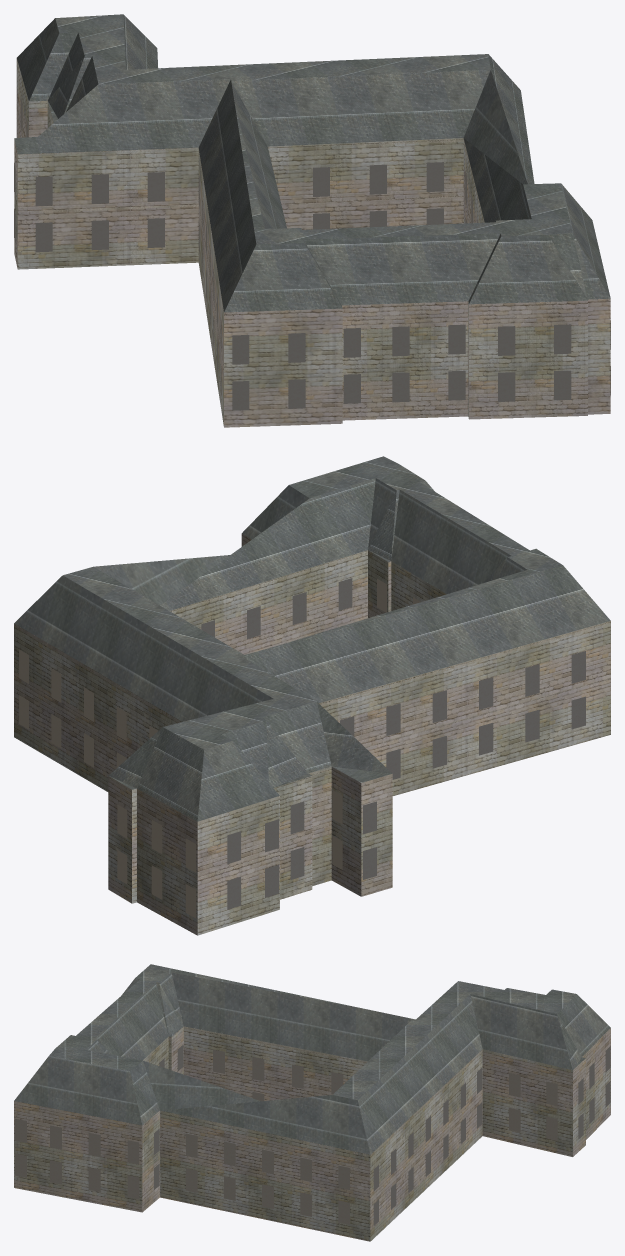
The model's file is hotel-de-sully.glb.
The picture shows the model from 3 angles, top to bottom: view 1: azimuth 30°, elevation 25°; view 2: azimuth 150°, elevation 25°; view 3: azimuth 270°, elevation 25°; orthographic projection. The views are drawn at different scales.
Visible parts, largest first — view 1: roof, stone, window, trim; view 2: roof, stone, window, trim; view 3: roof, stone, window, trim.
Part boxes in pixels (<box>): roof: <box>14,14,610,312</box>; stone: <box>14,58,610,427</box>; window: <box>14,97,610,410</box>; trim: <box>14,59,609,371</box>; roof: <box>14,456,610,821</box>; stone: <box>14,533,610,935</box>; window: <box>19,578,585,918</box>; trim: <box>14,539,610,880</box>; roof: <box>14,964,610,1154</box>; stone: <box>14,1026,610,1241</box>; window: <box>15,1044,610,1225</box>; trim: <box>15,1026,610,1198</box>.
Size of the model in its own units: 45 by 16 by 68.4.
Materials: 4 (4 with a texture image).
